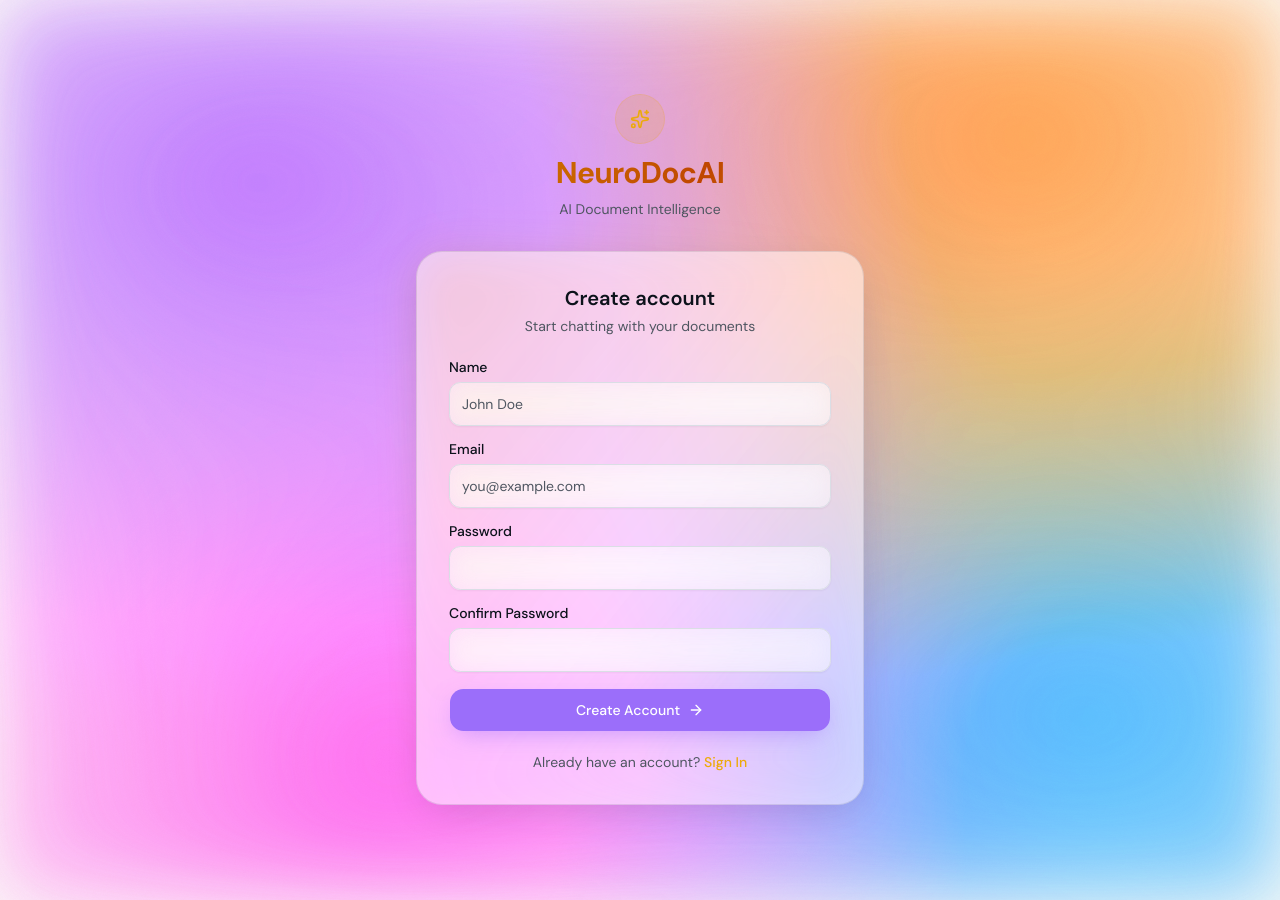
RegisterPage › shows password requirements when typing
Type "abc" into the password field labelled "Password".
click(640, 568); type("abc")  # box [449, 546, 831, 590]
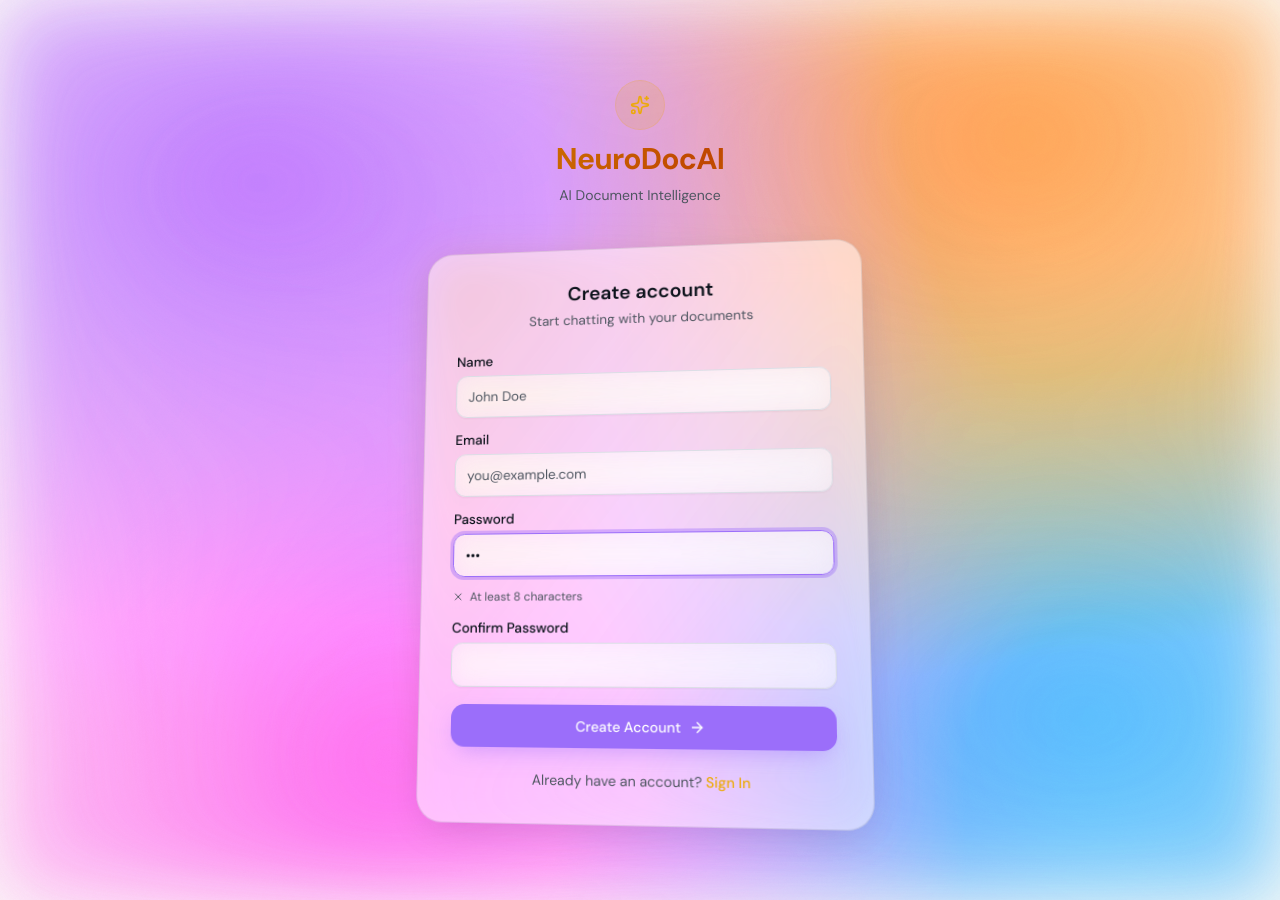
Check: the text "At least 8 characters" is shown, box [452, 588, 583, 605]
